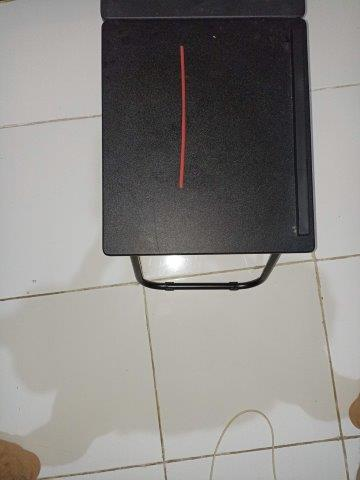sedotan: (178, 46, 186, 188)
